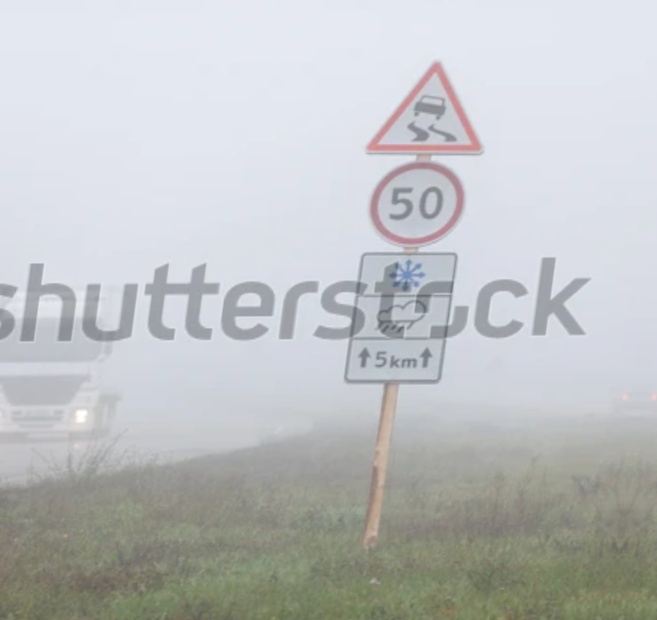Slippery road: (350, 57, 489, 156)
Speed limit: (370, 145, 464, 243)
